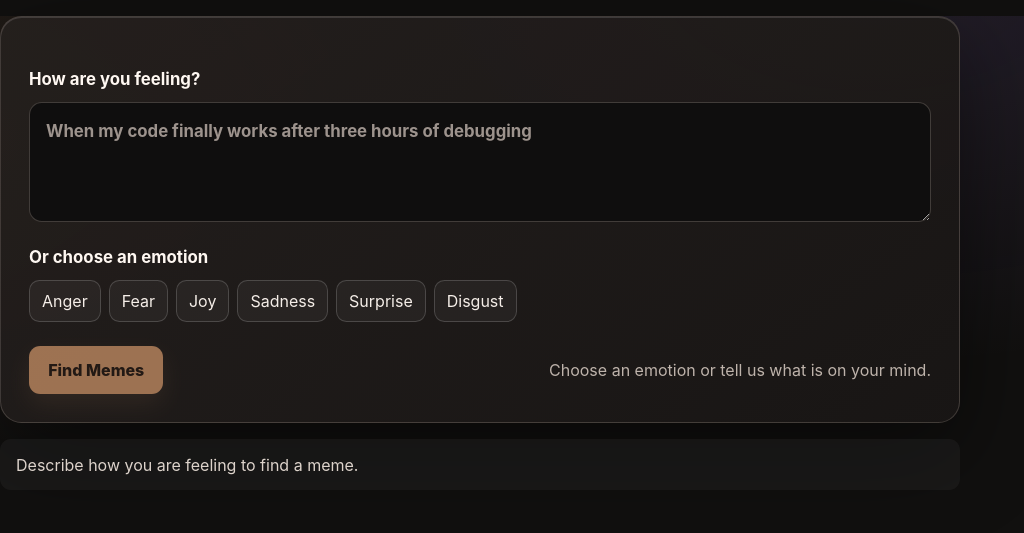
Scenario: Phase 7 text recommendations › shows a retryable backend error
In the text box labelled "How are you feeling?": (480, 162) [29,102,931,222], type "A rough day"
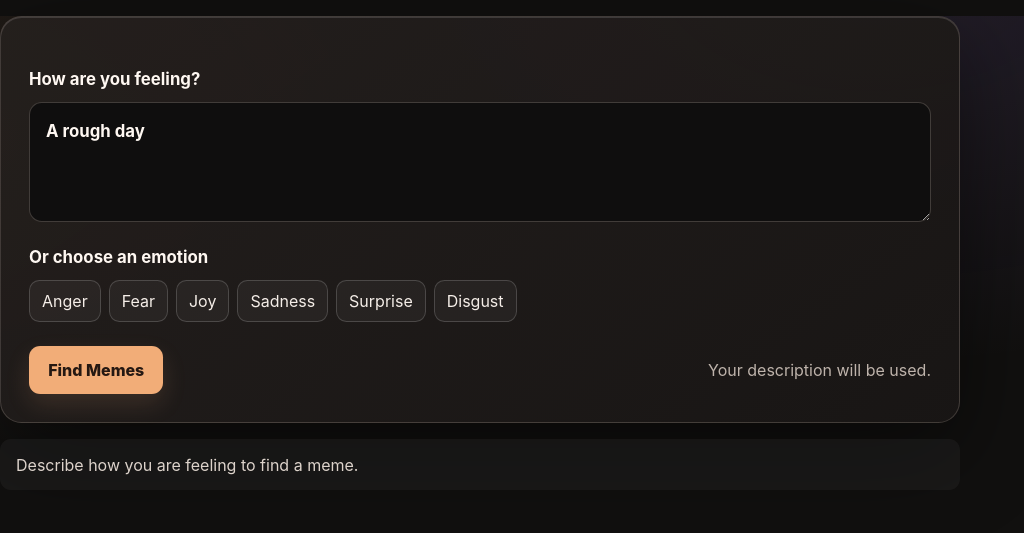
Click the button "Find Memes": click(96, 370) [29,346,164,394]
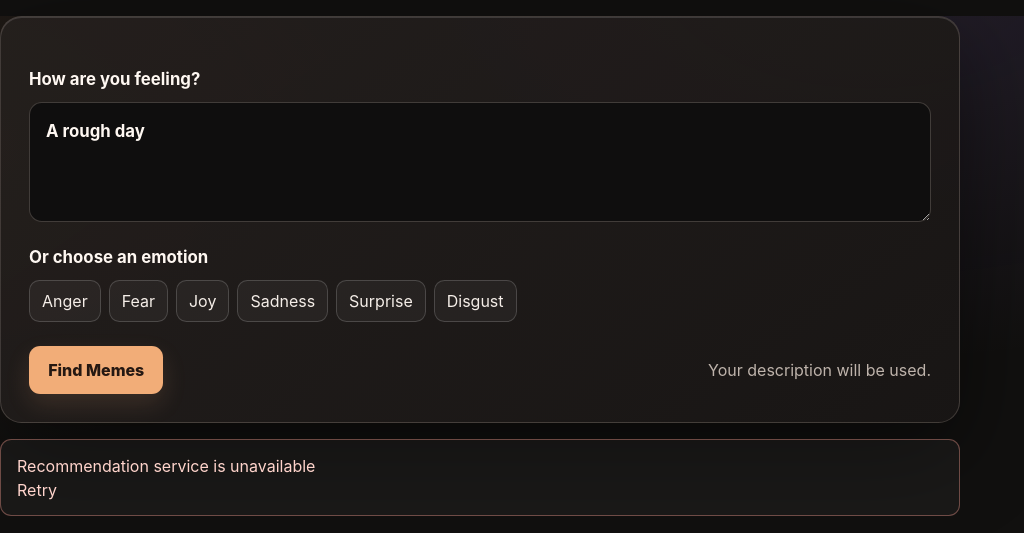
Expected: the message shows "Recommendation service is unavailable", [17,456,315,476]
Expected: the button "Retry" is enabled, [17,478,57,502]
